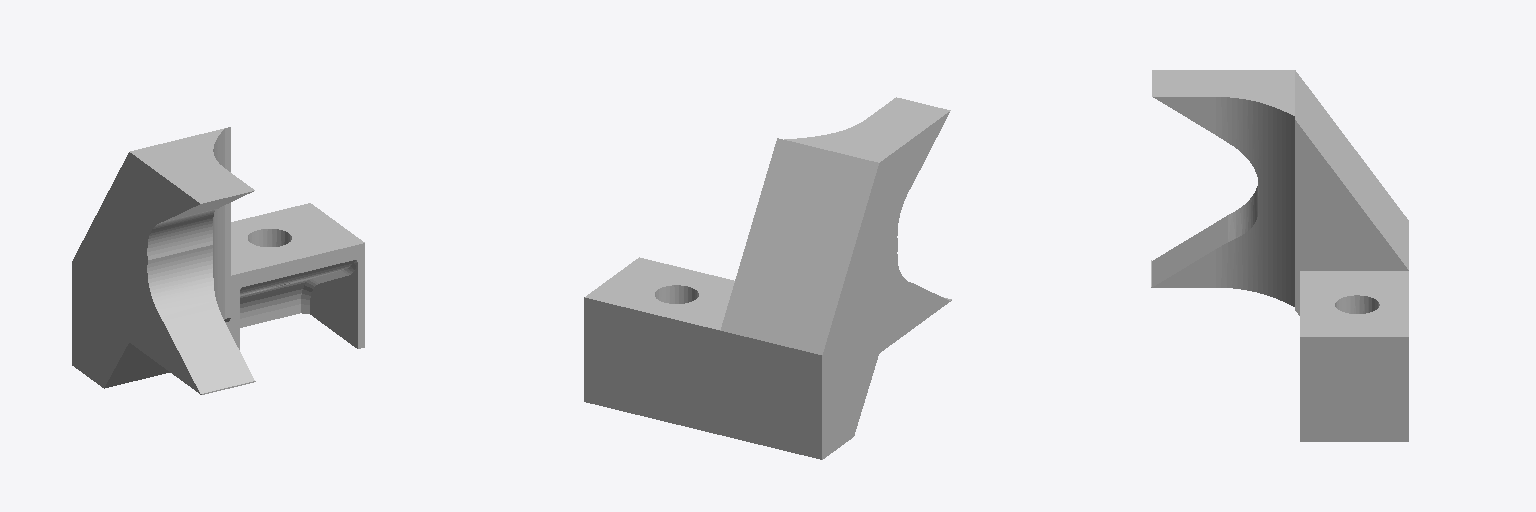
File: Greifer_long_nose_new_links_centered.obj
3 views of the same model, side by side, from view 1: azimuth 30°, elevation 25°; view 2: azimuth 150°, elevation 25°; view 3: azimuth 270°, elevation 25° (orthographic).
Parts seen in each view (by area): view 1: Greifer_long_nose_new_links; view 2: Greifer_long_nose_new_links; view 3: Greifer_long_nose_new_links.
Boxes of the visible parts, <box> form: Greifer_long_nose_new_links: <box>72,127,364,394</box>; Greifer_long_nose_new_links: <box>584,97,951,459</box>; Greifer_long_nose_new_links: <box>1151,70,1408,441</box>.
Bounding box in the file's own units: 32.66 × 33.49 × 30.7.